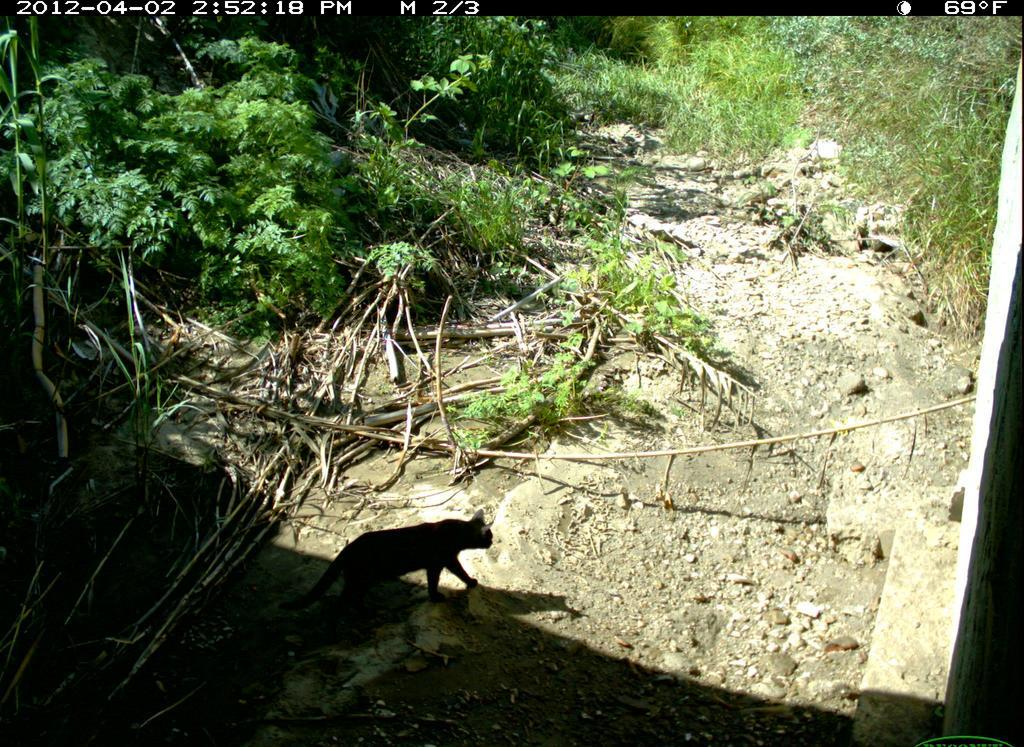cat: (276, 510, 505, 635)
